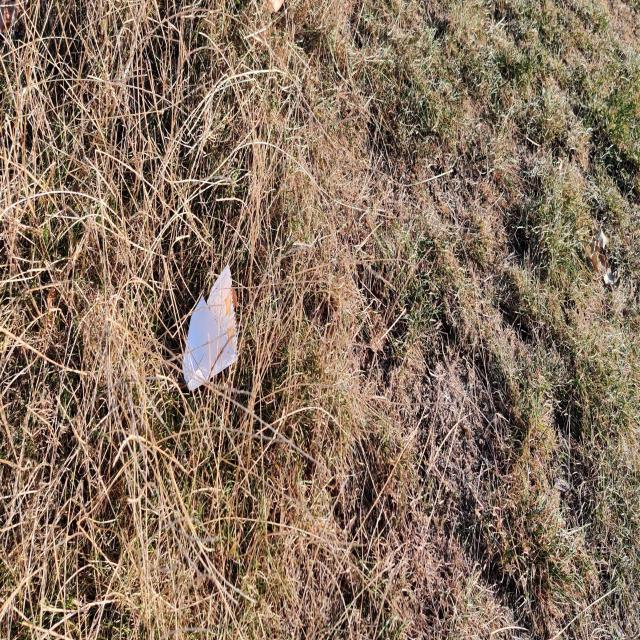litter: (181, 265, 240, 394)
